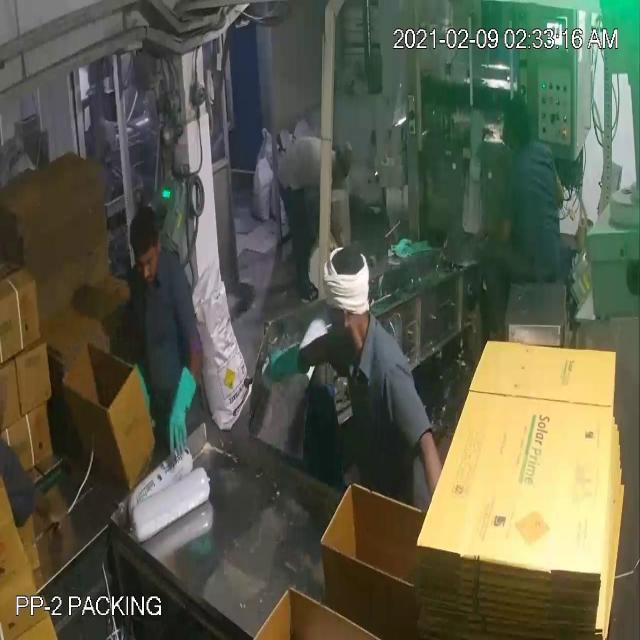Gloves: (38, 66, 286, 416)
